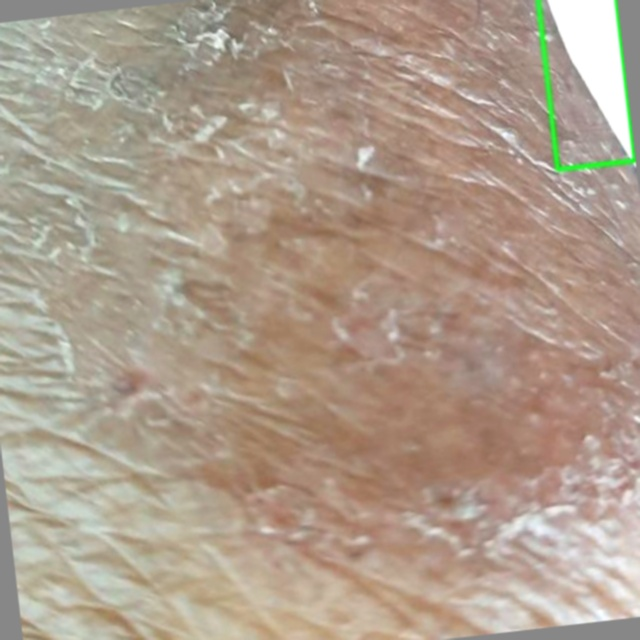Tinea Corporis: (538, 0, 634, 169)
